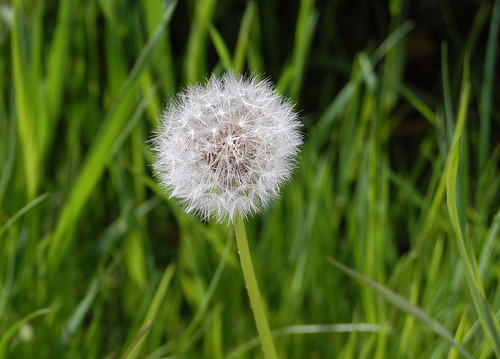dandelion white: (145, 70, 305, 223)
